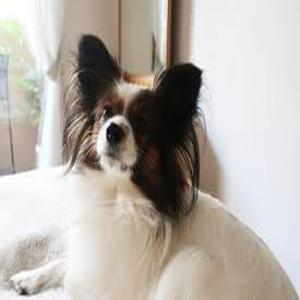yell: (11, 34, 299, 300)
